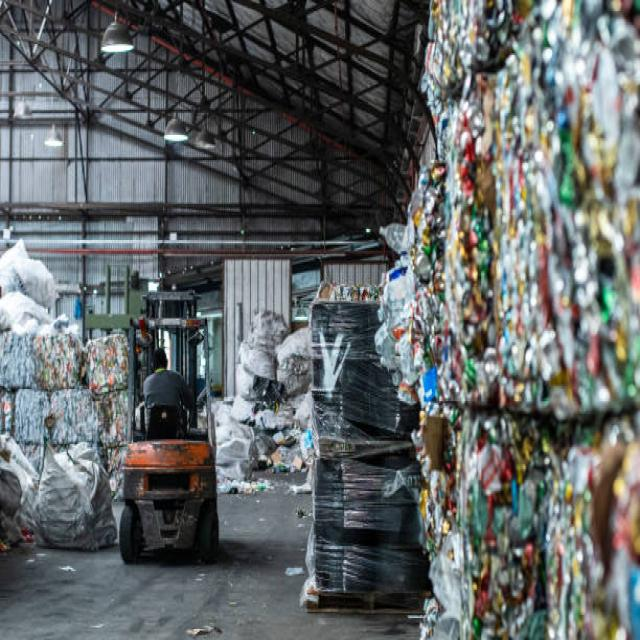metal: (441, 146, 637, 640), (492, 80, 626, 359)
plastic: (375, 217, 432, 414)
